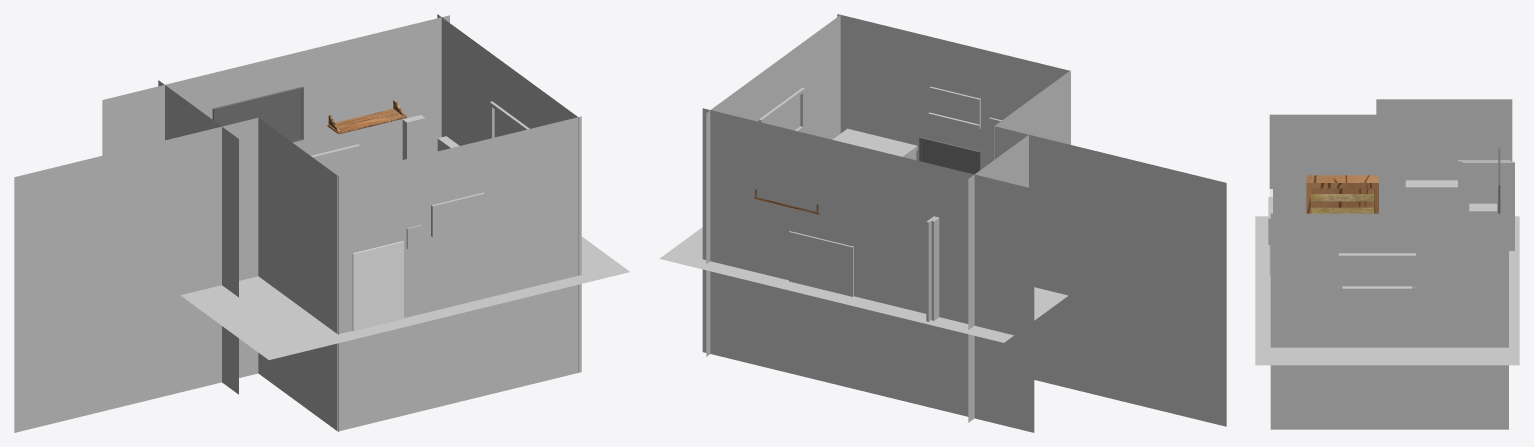
File: roomLARGER.fbx
3 renders of one model, left to right at view 1: azimuth 30°, elevation 25°; view 2: azimuth 150°, elevation 25°; view 3: azimuth 270°, elevation 25°, orthographic. The views are drawn at different scales.
Parts seen in each view (by area): view 1: Plane (6), Plane (2), left wall, Plane (3), Plane (4), Plane (5), Plane (7), door, bulletinBoard, board, shelfWinged, headboard (+1 smaller); view 2: left wall, Plane (6), Plane (2), Plane (5), Plane (4), headboard, Plane (7), Plane (3), board, TVflat_wUV 1, table3 TOP, closetdoor2 (+1 smaller); view 3: Plane (5), Plane (3), Plane (4), Plane (7), bookshelf_wUV, closetdoor1, dresser2, window frame bottom (1), window frame bottom, closetdoor2, dresser.
Part boxes in pixels (box(x1,y1,x2,y2)): Plane (6): box(14, 117, 258, 432); Plane (2): box(337, 116, 581, 431); left wall: box(102, 15, 449, 170); Plane (3): box(258, 118, 338, 431); Plane (4): box(180, 236, 629, 359); Plane (5): box(437, 14, 578, 372); Plane (7): box(158, 80, 238, 394); door: box(352, 241, 403, 331); bulletinBoard: box(212, 86, 303, 142); board: box(431, 192, 485, 237); shelfWinged: box(327, 99, 406, 134); headboard: box(311, 144, 360, 175); left wall: box(702, 108, 1034, 432); Plane (6): box(993, 126, 1226, 426); Plane (2): box(837, 14, 1070, 169); Plane (5): box(706, 15, 840, 356); Plane (4): box(659, 227, 1068, 342); headboard: box(789, 231, 853, 296); Plane (7): box(968, 123, 1045, 422); Plane (3): box(994, 70, 1070, 159); board: box(929, 86, 980, 129); TVflat_wUV 1: box(919, 137, 980, 174); table3 TOP: box(832, 128, 917, 157); closetdoor2: box(931, 217, 939, 320); Plane (5): box(1270, 213, 1508, 429); Plane (3): box(1269, 114, 1405, 213); Plane (4): box(1255, 216, 1519, 365); Plane (7): box(1376, 99, 1512, 180); bookshelf_wUV: box(1306, 175, 1378, 213); closetdoor1: box(1462, 161, 1514, 250); dresser2: box(1405, 180, 1457, 213); window frame bottom (1): box(1338, 253, 1415, 258); window frame bottom: box(1338, 286, 1415, 291); closetdoor2: box(1458, 160, 1510, 213); dresser: box(1469, 203, 1496, 213).
Bounding box in the file's own units: 2215 × 1026 × 1139.
14 materials, 4 textured.
